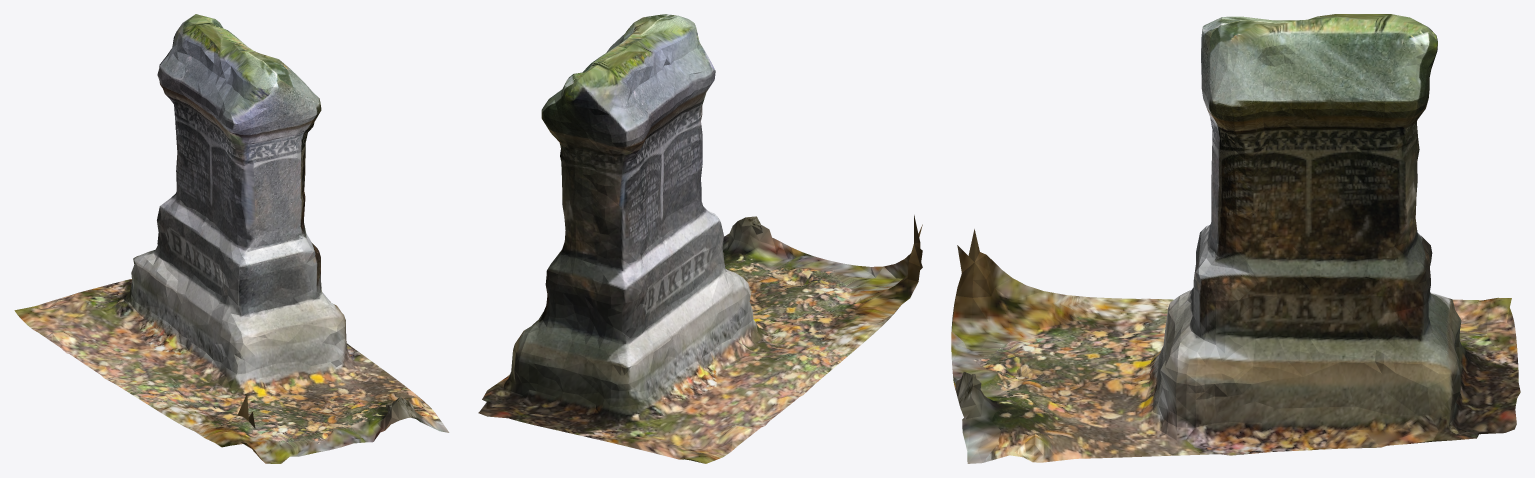
File: Polycam1.glb
3 views of the same model, side by side, from view 1: azimuth 30°, elevation 25°; view 2: azimuth 150°, elevation 25°; view 3: azimuth 270°, elevation 25° (orthographic). The views are drawn at different scales.
Size of the model in its own units: 1.37 by 1.75 by 2.28.
1 material, 1 textured.
